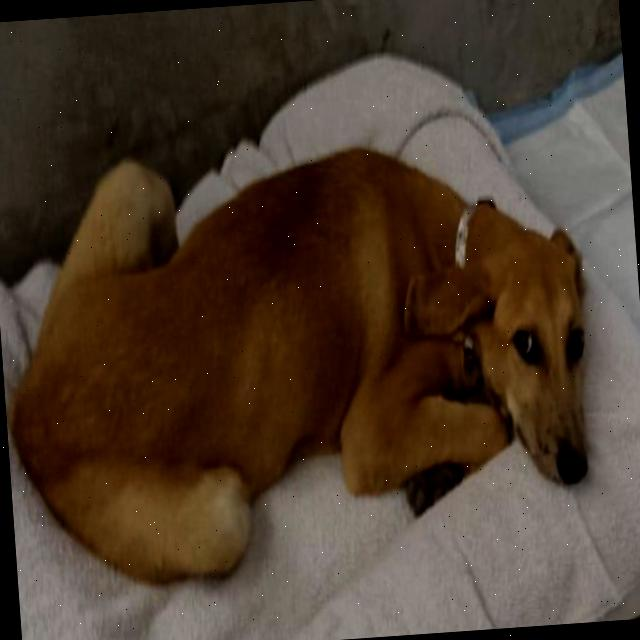labrador_retriever_dog: (395, 206, 612, 510)
